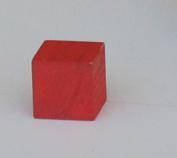red cube: (31, 37, 108, 123)
